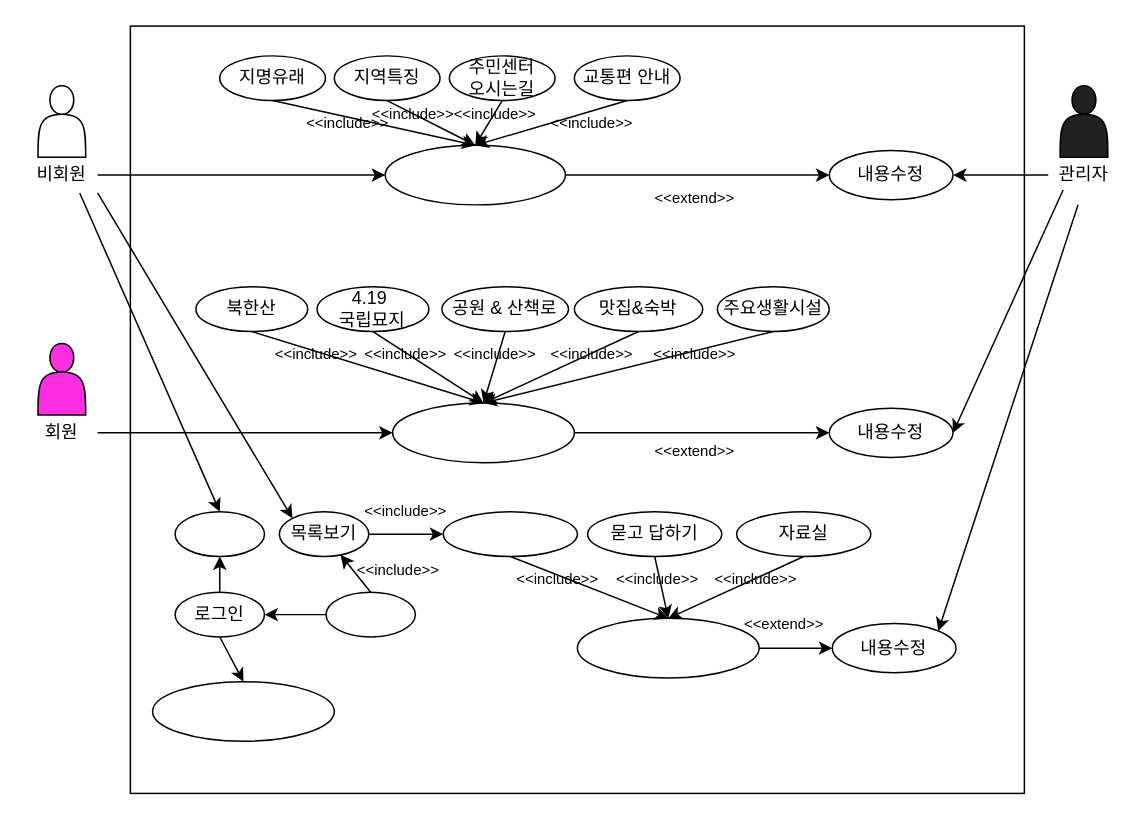
Some shapes in this 1144 by 820 pixel diagram are drawn without their labels. Here are the shapes that lost their labels. From the top down, the centre of each, then its label:
At point 474,174: "지역소개".
At point 482,432: "지역안내".
At point 219,533: "회원가입".
At point 509,533: "공지사항".
At point 370,614: "상세보기".
At point 667,647: "커뮤니티".
At point 242,710: "메인메뉴".
